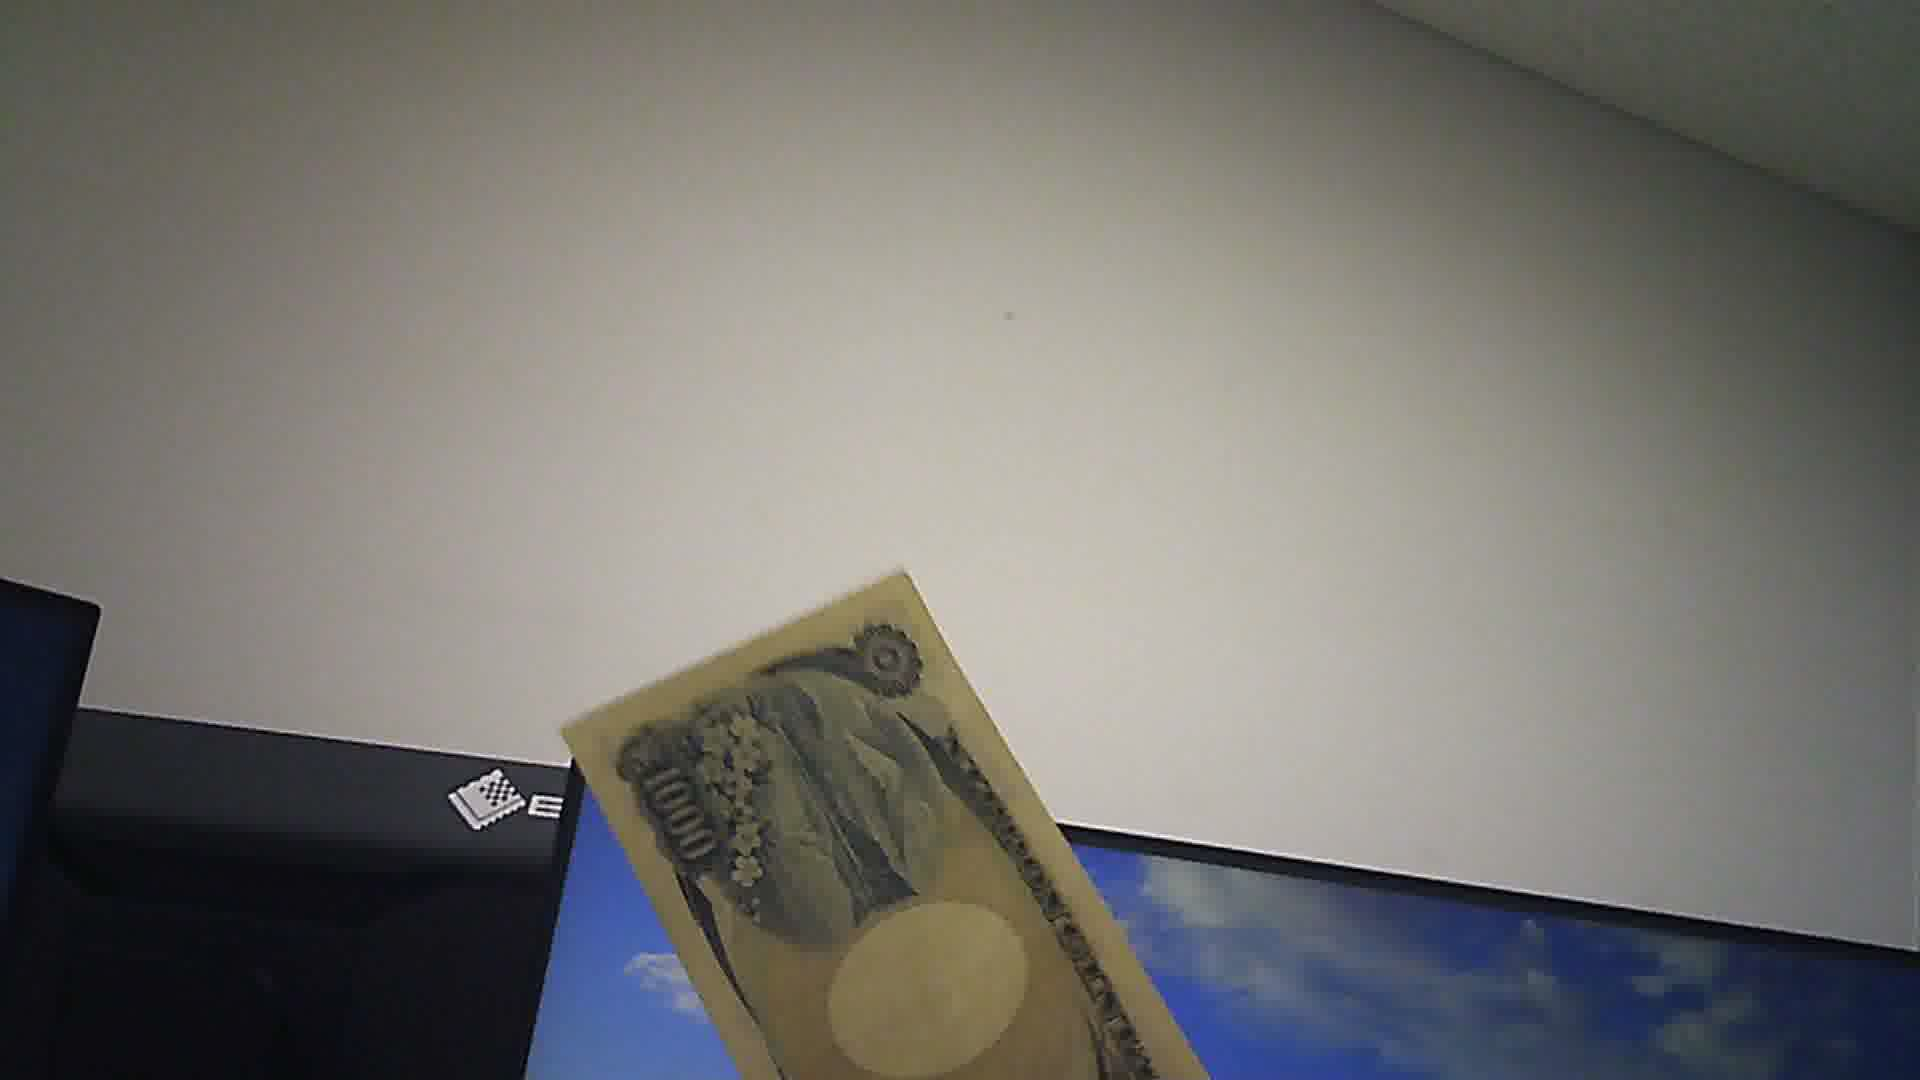1,000 Yen: (545, 568, 1193, 1079)
